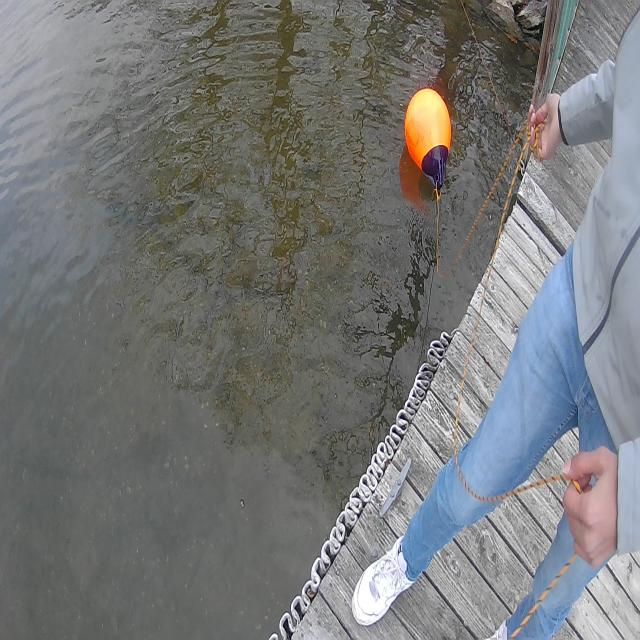Buoy: (403, 84, 454, 198)
